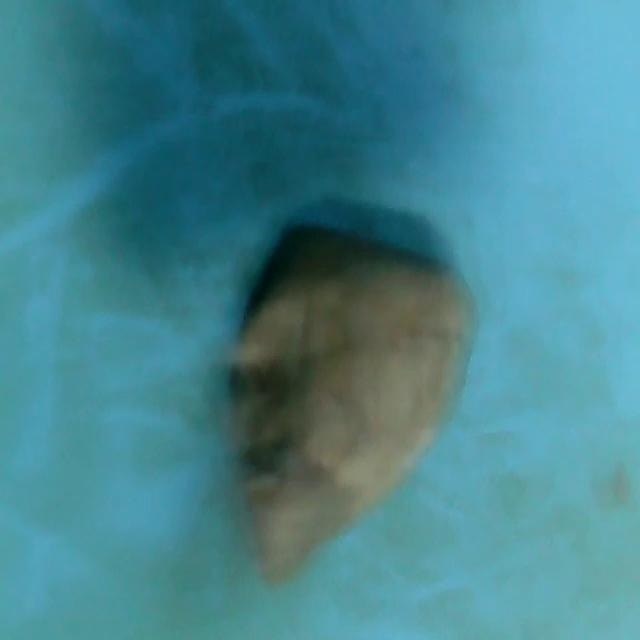rock: (219, 219, 482, 593)
